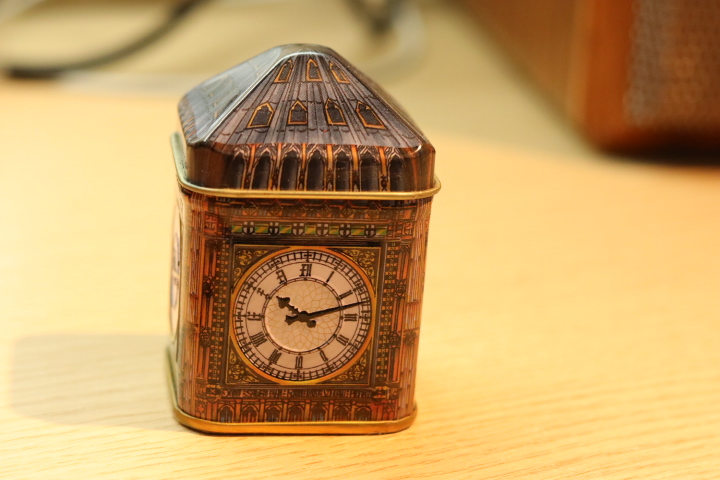Big Ben: (157, 33, 454, 445)
